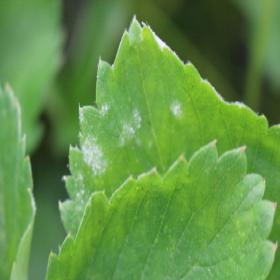Powdery Mildew Leaf: (56, 14, 279, 239)
